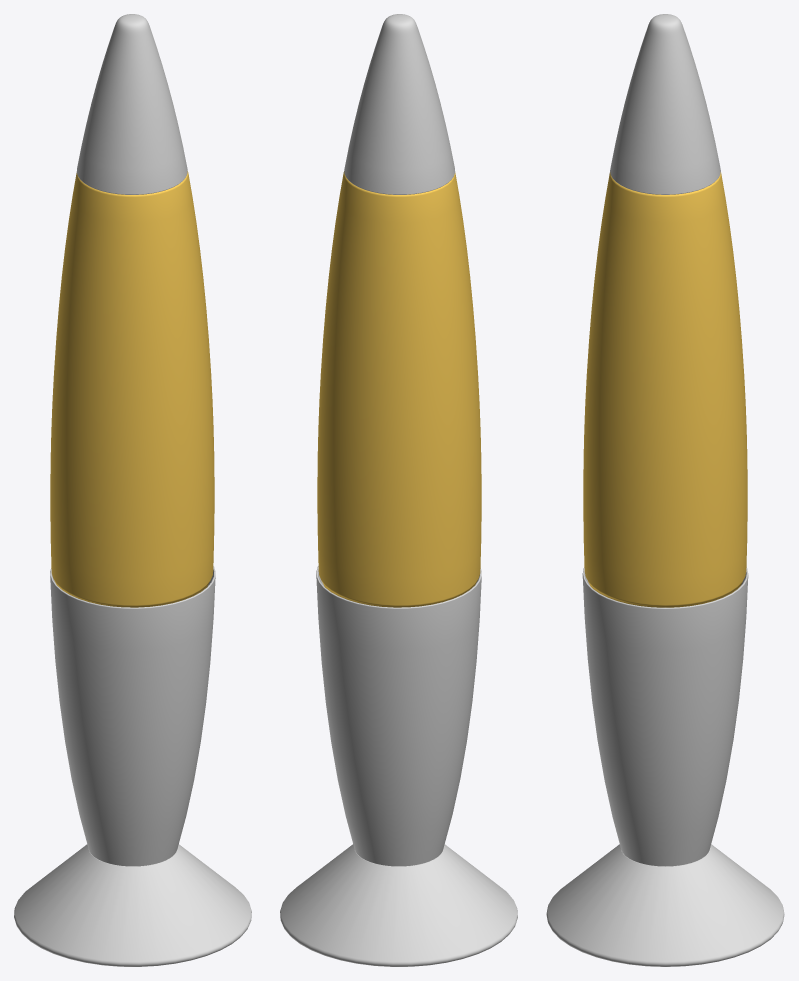
File: lava_lamp.FBX
3 renders of one model, left to right at view 1: azimuth 30°, elevation 25°; view 2: azimuth 150°, elevation 25°; view 3: azimuth 270°, elevation 25°, orthographic.
Parts seen in each view (by area): view 1: Shape03, Line02, Shape02; view 2: Shape03, Line02, Shape02; view 3: Shape03, Line02, Shape02.
Boxes of the visible parts, x1,y1,x2,y2 form: Shape03: (50, 171, 214, 607); Line02: (14, 566, 251, 966); Shape02: (76, 14, 187, 194); Shape03: (317, 171, 481, 607); Line02: (280, 566, 517, 966); Shape02: (344, 14, 455, 194); Shape03: (583, 172, 747, 607); Line02: (546, 568, 784, 966); Shape02: (610, 14, 720, 194).
Size of the model in its own units: 42.41 by 42.41 by 177.
